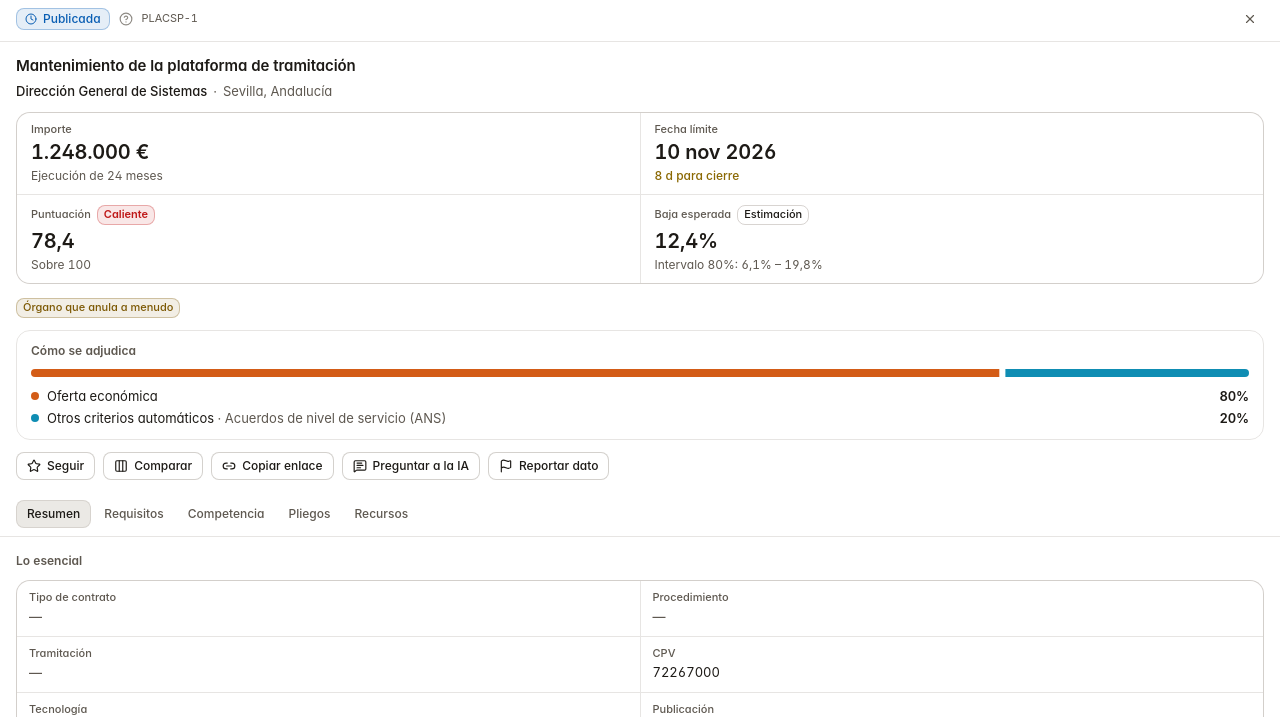
Test case: DetailInspector › resume bajo las cifras cómo se adjudica y detalla los requisitos en su pestaña
The width and height of the screenshot is (1280, 717).
Expected: the text "Oferta económica" is shown, [47, 388, 158, 404]
Expected: the text "80%" is shown, [1220, 387, 1249, 405]
Click the tab "Requisitos" at (134, 514), box [93, 500, 175, 528]
(page scrolled)
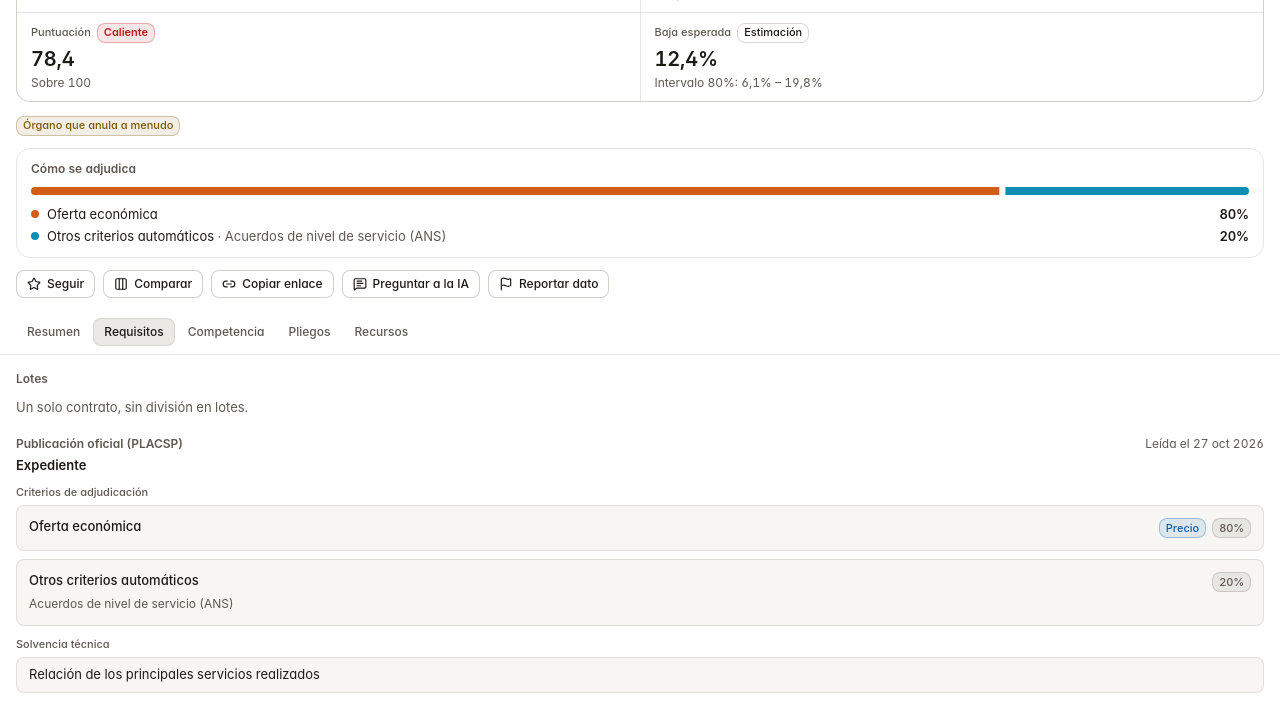
Now the text "Un solo contrato, sin división en lotes." is shown, box [16, 399, 248, 415]
Now the text "Relación de los principales servicios realizados" is shown, box [29, 666, 320, 682]
